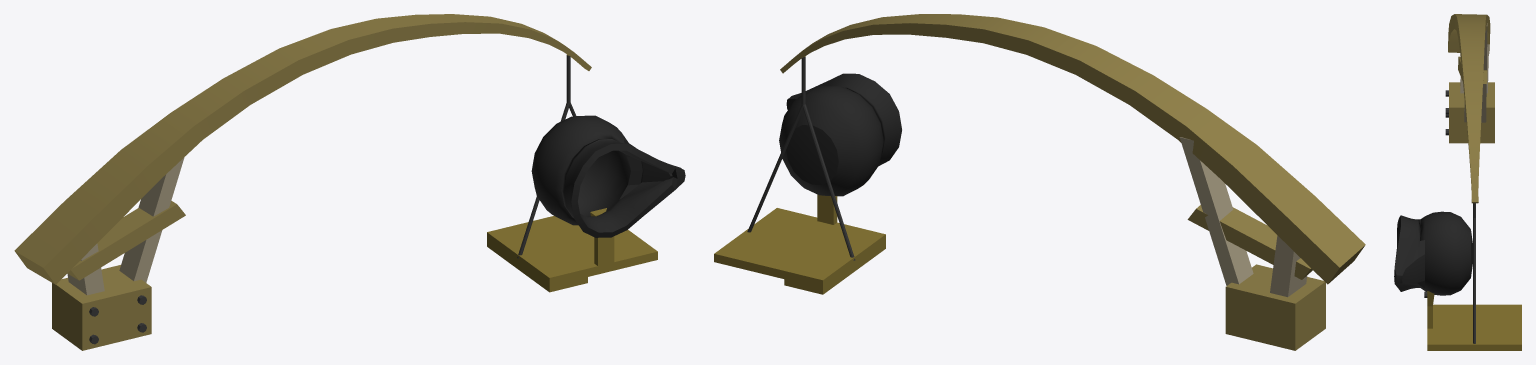
The model's file is turret_2_3.glb.
3 views of the same model, side by side, from view 1: azimuth 30°, elevation 25°; view 2: azimuth 150°, elevation 25°; view 3: azimuth 270°, elevation 25° (orthographic). The views are drawn at different scales.
Visible parts, largest first — view 1: turret2_3, cauldron, landing; view 2: turret2_3, cauldron, landing; view 3: turret2_3, cauldron, landing.
Part boxes in pixels (<box>): turret2_3: <box>14,14,591,350</box>; cauldron: <box>531,115,685,237</box>; landing: <box>487,54,657,292</box>; turret2_3: <box>780,14,1365,350</box>; cauldron: <box>779,73,901,196</box>; landing: <box>714,56,885,294</box>; turret2_3: <box>1445,14,1494,203</box>; cauldron: <box>1394,211,1472,295</box>; landing: <box>1424,203,1521,350</box>.
Bounding box in the file's own units: 3.87 × 1.7 × 0.9308.
